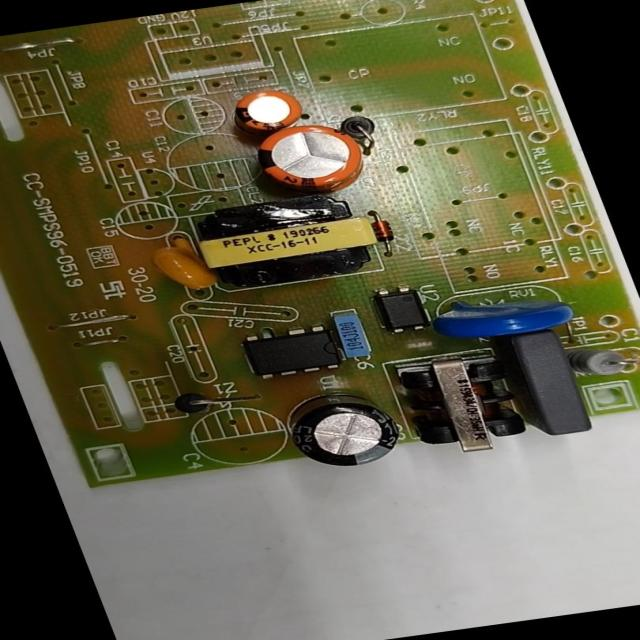Cap1: (248, 121, 369, 196)
Cap2: (232, 84, 308, 132)
Cap3: (278, 385, 404, 473)
MOSFET: (245, 323, 342, 379)
Mov: (425, 288, 578, 344)
Resistor: (566, 340, 635, 381)
Transformer: (180, 188, 389, 292), (388, 351, 536, 458)
